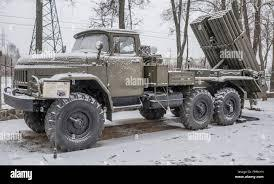MIL_SAM_TEL: (8, 5, 262, 153)
